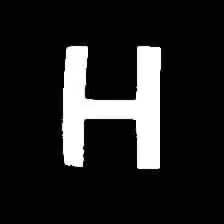LTR_H: (56, 33, 170, 173)
